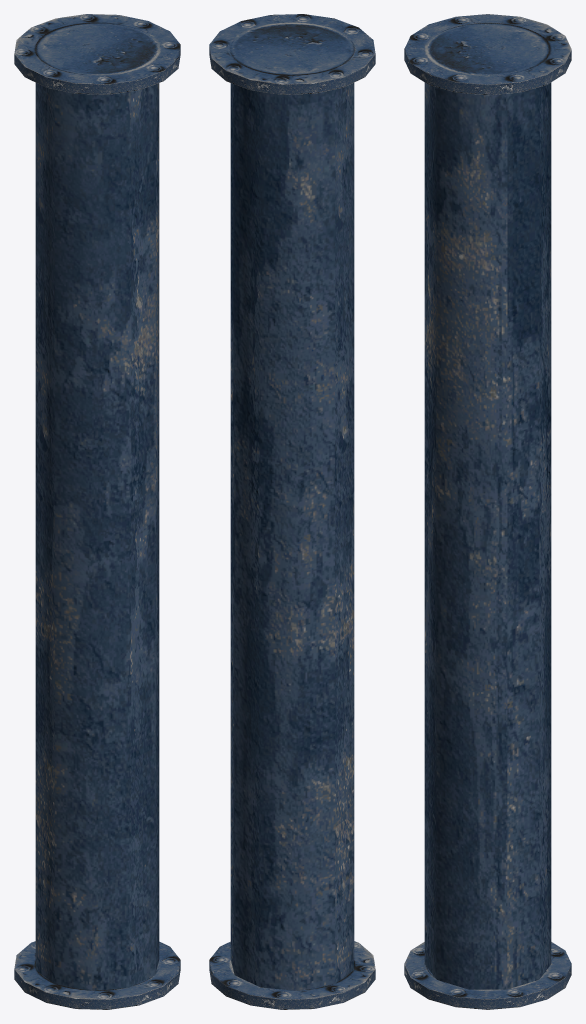
The model's file is 4m_blue.DAE.
The picture shows the model from 3 angles, left to right: view 1: azimuth 30°, elevation 25°; view 2: azimuth 150°, elevation 25°; view 3: azimuth 270°, elevation 25°; orthographic projection.
Visible parts, largest first — view 1: Object540, Object541; view 2: Object540, Object541; view 3: Object540, Object541.
Boxes of the visible parts, x1,y1,x2,y2 form: Object540: (35, 83, 159, 990); Object541: (14, 14, 180, 1009); Object540: (230, 83, 354, 990); Object541: (209, 14, 375, 1009); Object540: (424, 82, 551, 989); Object541: (404, 14, 571, 1009).
Size of the model in its own units: 0.6566 by 0.6566 by 4.
